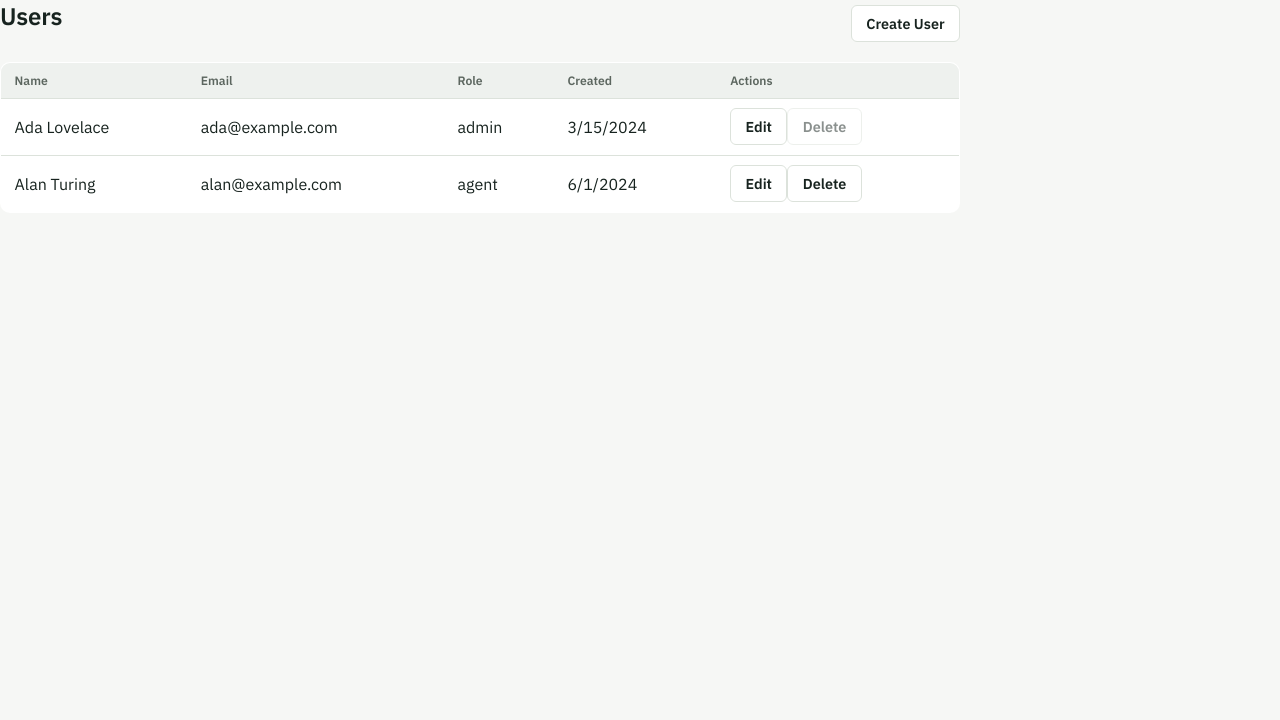
Test case: opens the create user modal when the Create User button is clicked
Click the button "Create User": (905, 23) [851,5,960,42]
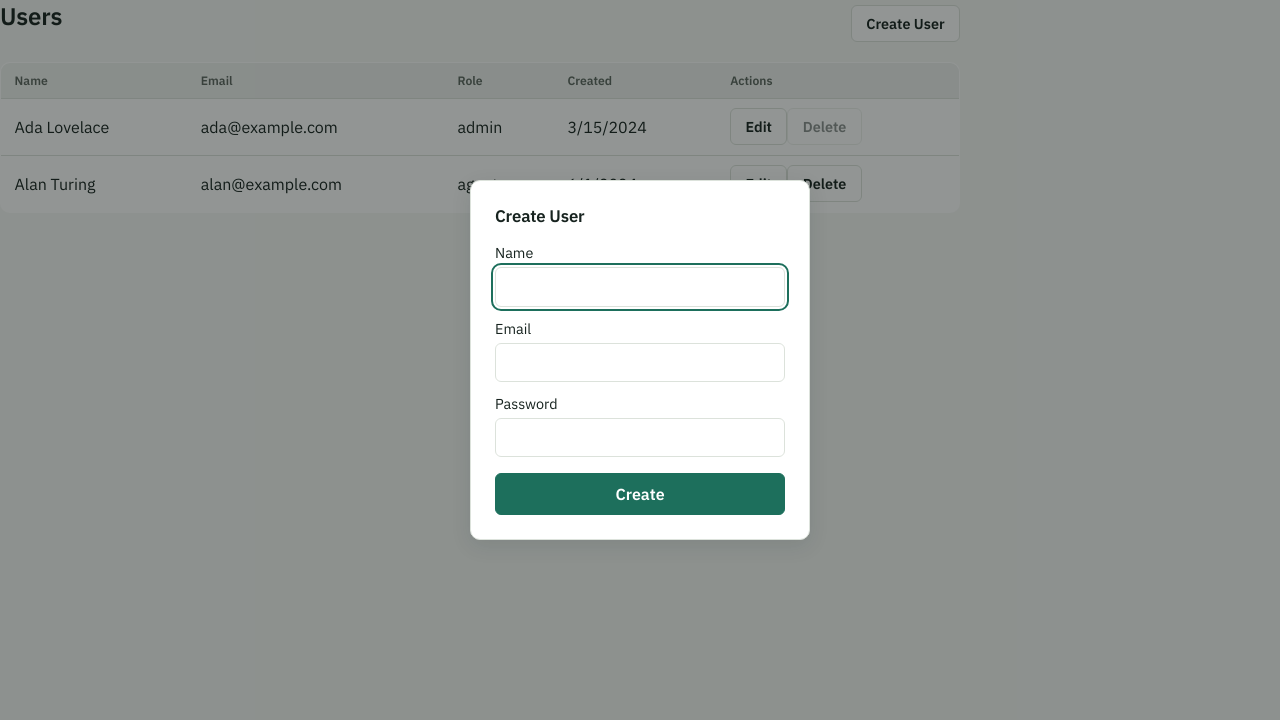
Result: the heading "Create User" is shown at [495,205,584,227]
Result: the field labelled "Name" is shown at [495,267,785,307]
